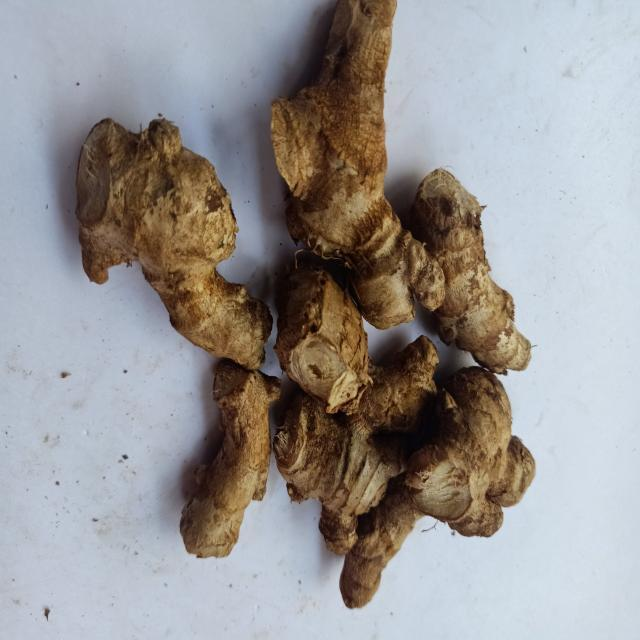Ginger: (271, 0, 445, 329), (75, 118, 272, 370), (340, 367, 536, 609), (274, 336, 439, 554), (410, 168, 532, 375), (273, 393, 407, 555), (179, 359, 281, 558), (274, 263, 372, 414)
